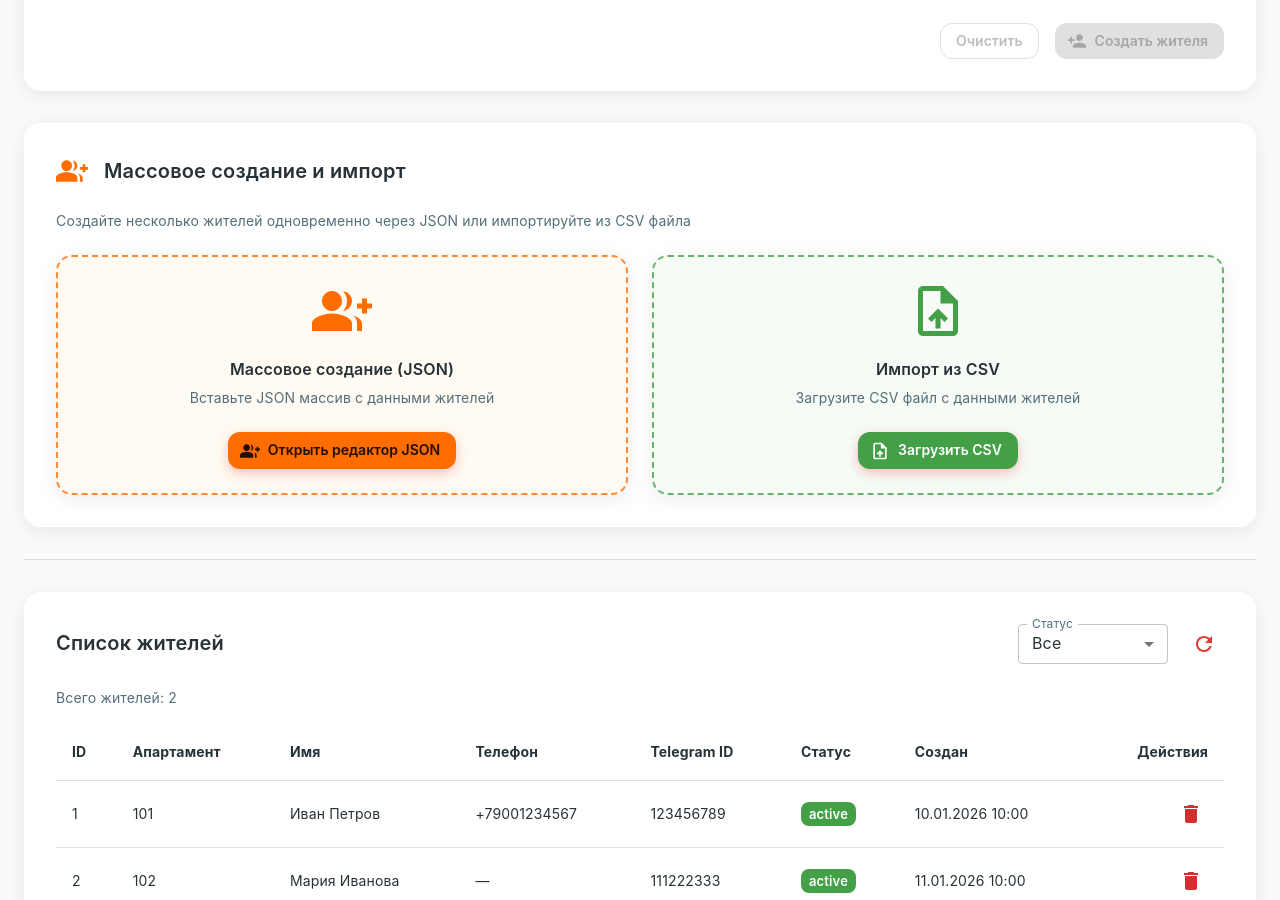
Test: AdminResidentsPage › CSV import dialog › opens CSV dialog and shows file select button
(page scrolled)
Expected: the text "Иван Петров" is shown, x1=274 y1=780 x2=459 y2=847
Click the button "Загрузить CSV": (938, 451) x1=858 y1=432 x2=1018 y2=469
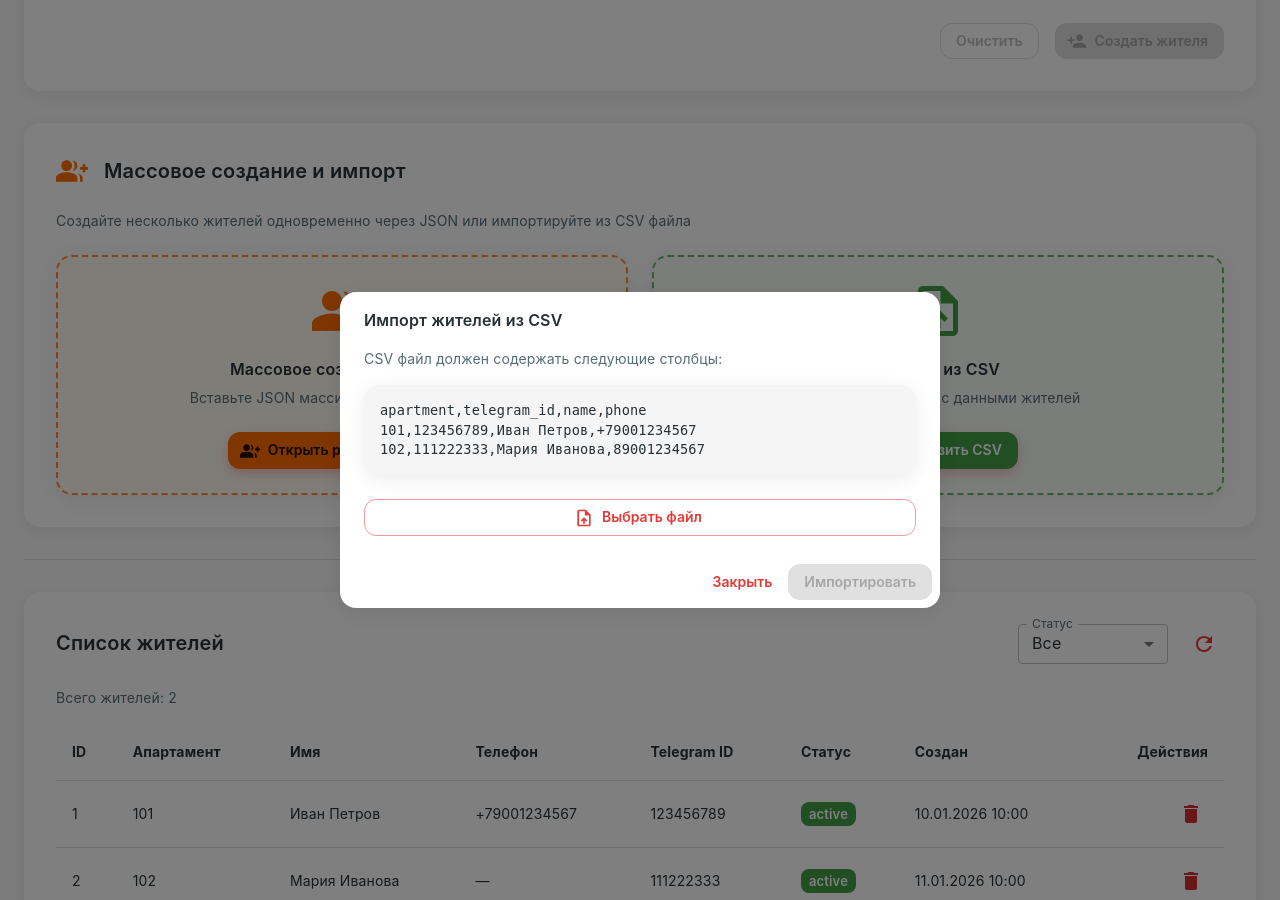
Expected: the heading "Импорт жителей из CSV" is shown, x1=364 y1=310 x2=562 y2=330
Expected: the button "Выбрать файл" is shown, x1=364 y1=500 x2=916 y2=536
